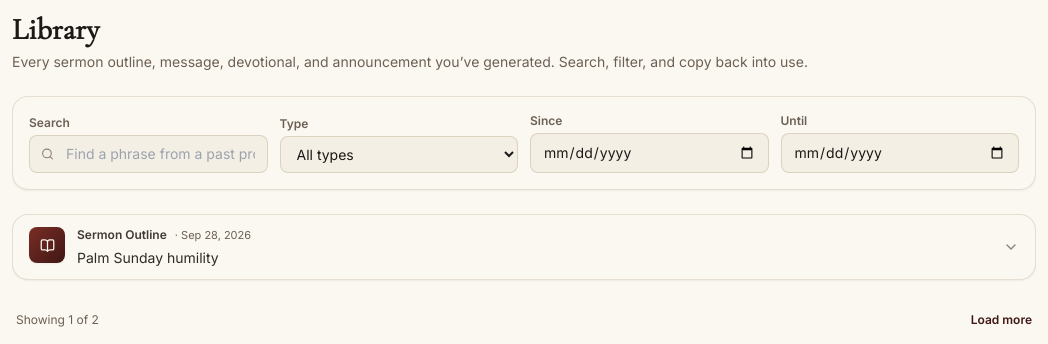
library when the archive did not load › a failed next page leaves the generations already loaded
The image size is (1048, 344).
Expected: the text "Palm Sunday humility" is shown, [77, 248, 219, 266]
Click the button "Load more": [1001, 320] box [971, 312, 1032, 328]
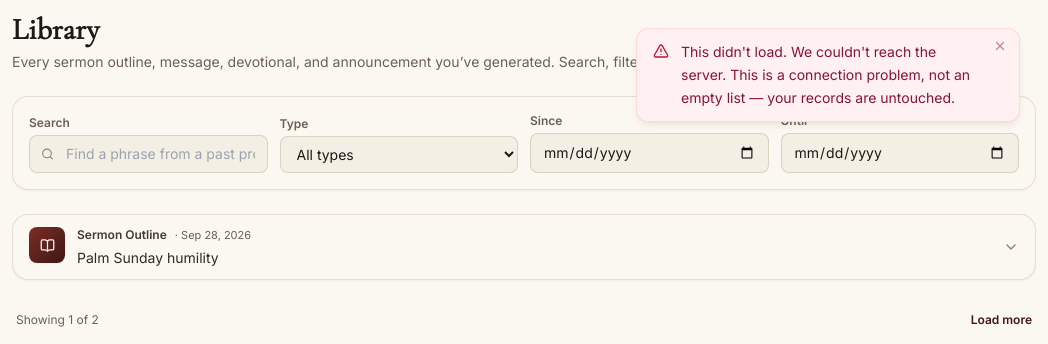
Expected: the text "Palm Sunday humility" is shown, [77, 248, 219, 266]
Expected: the message is shown, [636, 28, 1020, 122]
